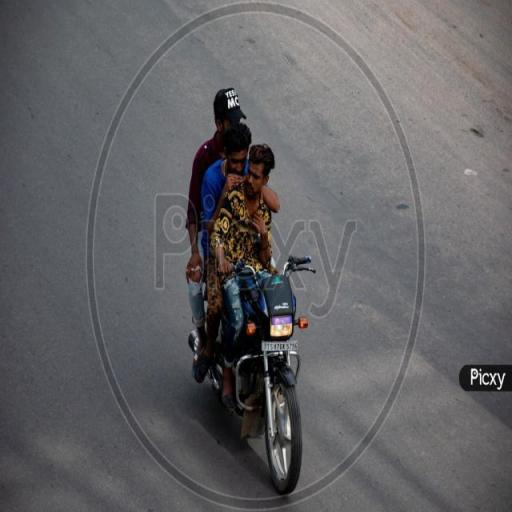tripple riding: (174, 76, 328, 493)
